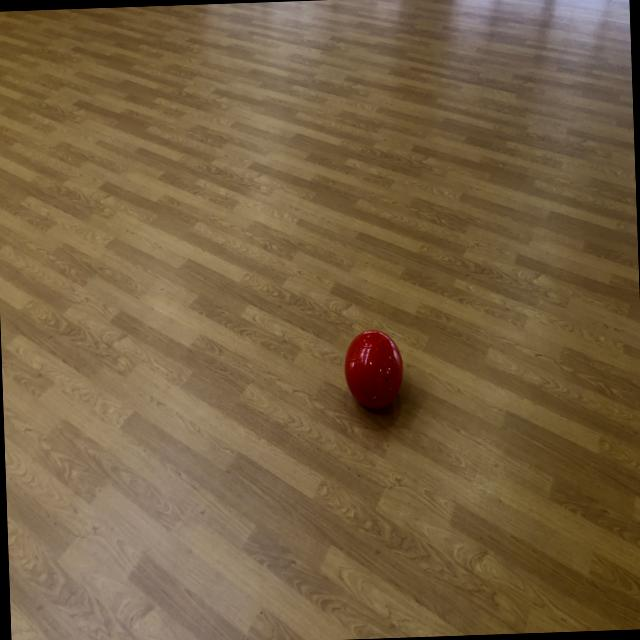red_ball: (344, 329, 404, 412)
